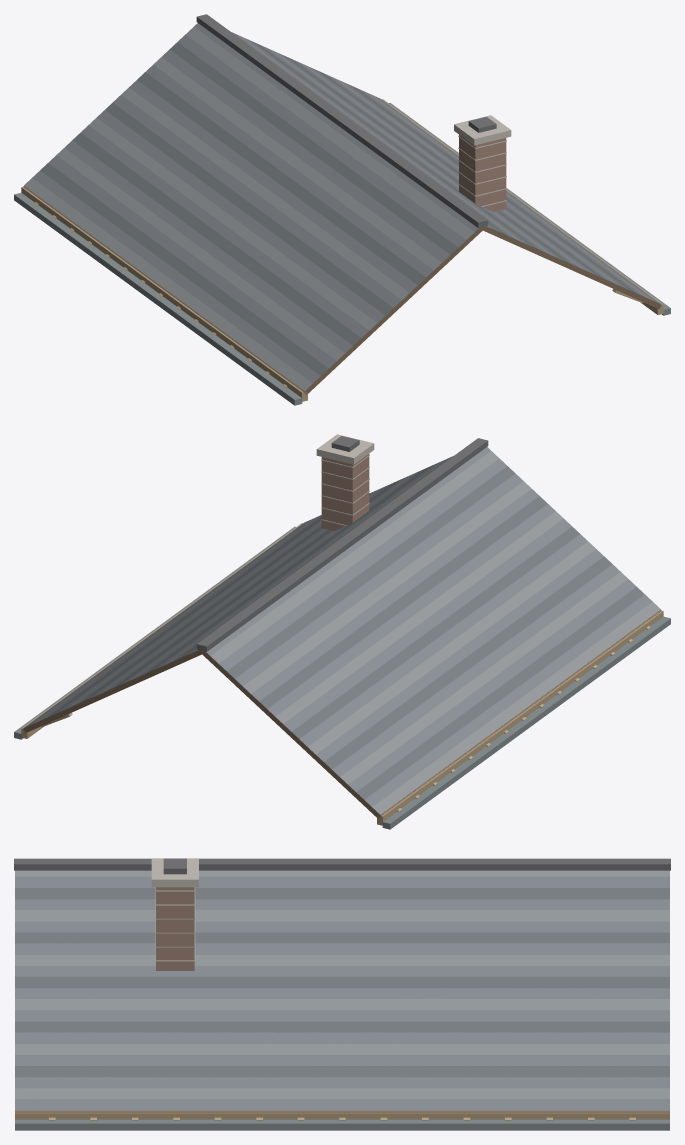
The model's file is 02_Full_Gable_Roof_14m.glb.
The picture shows the model from 3 angles, top to bottom: view 1: azimuth 30°, elevation 25°; view 2: azimuth 150°, elevation 25°; view 3: azimuth 270°, elevation 25°; orthographic projection. The views are drawn at different scales.
Parts seen in each view (by area): view 1: RidgeCap, AsphaltShingleBand_-1_21, AsphaltShingleBand_-1_07, AsphaltShingleBand_-1_10, AsphaltShingleBand_-1_15, AsphaltShingleBand_-1_01, AsphaltShingleBand_-1_04, AsphaltShingleBand_-1_18, AsphaltShingleBand_-1_12, AsphaltShingleBand_-1_02, AsphaltShingleBand_-1_05, AsphaltShingleBand_-1_13 (+37 smaller); view 2: RidgeCap, AsphaltShingleBand_-1_21, AsphaltShingleBand_-1_10, AsphaltShingleBand_-1_15, AsphaltShingleBand_-1_07, AsphaltShingleBand_-1_01, AsphaltShingleBand_-1_18, AsphaltShingleBand_-1_12, AsphaltShingleBand_-1_13, AsphaltShingleBand_-1_19, AsphaltShingleBand_-1_02, AsphaltShingleBand_-1_04 (+37 smaller); view 3: AsphaltShingleBand_1_10, RidgeCap, AsphaltShingleBand_1_19, AsphaltShingleBand_1_12, AsphaltShingleBand_1_13, AsphaltShingleBand_1_14, AsphaltShingleBand_1_15, AsphaltShingleBand_1_21, AsphaltShingleBand_1_18, GutterRun_1, AsphaltShingleBand_1_02, AsphaltShingleBand_1_04 (+16 smaller).
Boxes of the visible parts, x1,y1,x2,y2 form: RidgeCap: (196, 14, 488, 227); AsphaltShingleBand_-1_21: (24, 178, 312, 391); AsphaltShingleBand_-1_07: (137, 72, 425, 285); AsphaltShingleBand_-1_10: (113, 95, 401, 307); AsphaltShingleBand_-1_15: (72, 132, 361, 345); AsphaltShingleBand_-1_01: (185, 27, 474, 239); AsphaltShingleBand_-1_04: (161, 49, 450, 262); AsphaltShingleBand_-1_18: (48, 155, 336, 368); AsphaltShingleBand_-1_12: (97, 110, 385, 322); AsphaltShingleBand_-1_02: (178, 34, 466, 247); AsphaltShingleBand_-1_05: (153, 57, 441, 270); AsphaltShingleBand_-1_13: (88, 117, 377, 330); RidgeCap: (196, 438, 488, 651); AsphaltShingleBand_-1_21: (372, 602, 660, 814); AsphaltShingleBand_-1_10: (283, 518, 571, 731); AsphaltShingleBand_-1_15: (324, 556, 612, 769); AsphaltShingleBand_-1_07: (259, 496, 547, 709); AsphaltShingleBand_-1_01: (210, 451, 499, 663); AsphaltShingleBand_-1_18: (347, 579, 636, 792); AsphaltShingleBand_-1_12: (299, 534, 587, 747); AsphaltShingleBand_-1_13: (307, 541, 595, 754); AsphaltShingleBand_-1_19: (356, 587, 644, 799); AsphaltShingleBand_-1_02: (218, 458, 506, 671); AsphaltShingleBand_-1_04: (234, 473, 523, 686); AsphaltShingleBand_1_10: (15, 976, 669, 988); RidgeCap: (14, 858, 670, 870); AsphaltShingleBand_1_19: (15, 1076, 669, 1088); AsphaltShingleBand_1_12: (15, 999, 669, 1010); AsphaltShingleBand_1_13: (15, 1010, 669, 1021); AsphaltShingleBand_1_14: (15, 1021, 669, 1032); AsphaltShingleBand_1_15: (15, 1032, 669, 1043); AsphaltShingleBand_1_21: (15, 1099, 669, 1110); AsphaltShingleBand_1_18: (15, 1065, 669, 1077); GutterRun_1: (15, 1119, 669, 1130); AsphaltShingleBand_1_02: (15, 888, 669, 899); AsphaltShingleBand_1_04: (15, 910, 669, 921).
Size of the model in its own units: 11.53 by 4.99 by 14.94.
